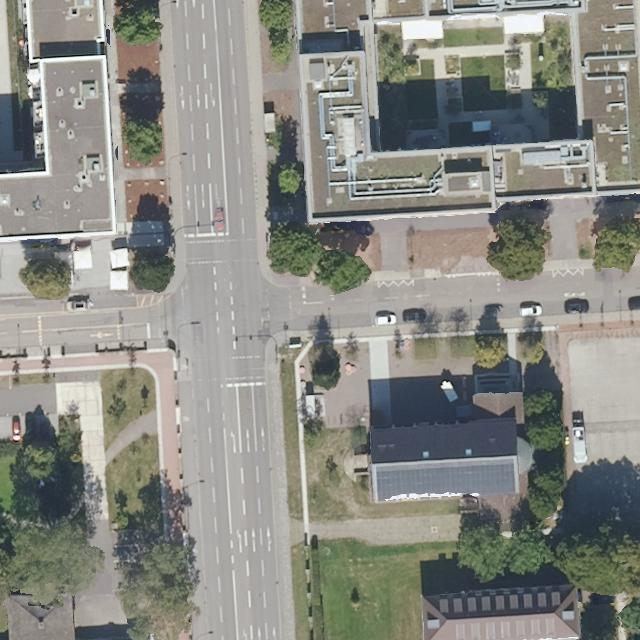PV: (374, 463, 518, 502)
